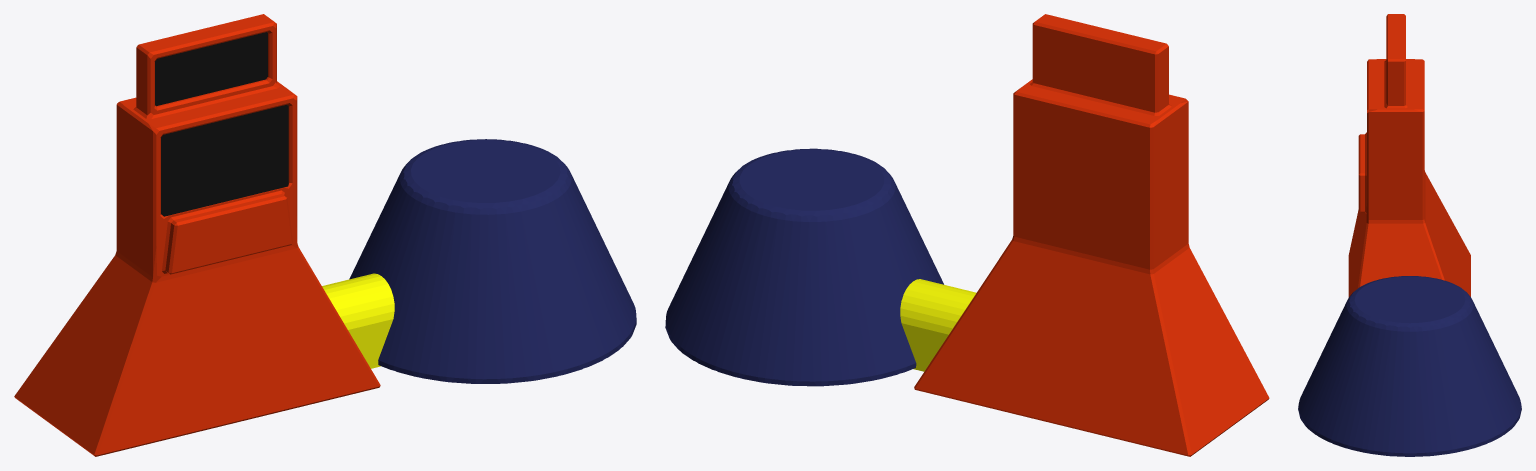
The model's file is research.fbx.
3 renders of one model, left to right at view 1: azimuth 30°, elevation 25°; view 2: azimuth 150°, elevation 25°; view 3: azimuth 270°, elevation 25°, orthographic. The views are drawn at different scales.
Visible parts, largest first — view 1: Cube, Cylinder, Plane, Plane.001, Cylinder.001; view 2: Cube, Cylinder, Cylinder.001; view 3: Cylinder, Cube.
Part boxes in pixels (x1,y1,x2,y2): Cube: (14, 14, 380, 456); Cylinder: (349, 139, 636, 383); Plane: (161, 104, 288, 216); Plane.001: (155, 32, 267, 106); Cylinder.001: (322, 273, 394, 368); Cube: (914, 14, 1269, 456); Cylinder: (665, 148, 943, 386); Cylinder.001: (900, 279, 976, 371); Cylinder: (1298, 276, 1521, 456); Cube: (1348, 14, 1470, 297).
Bounding box in the file's own units: 390 × 243 × 182.
